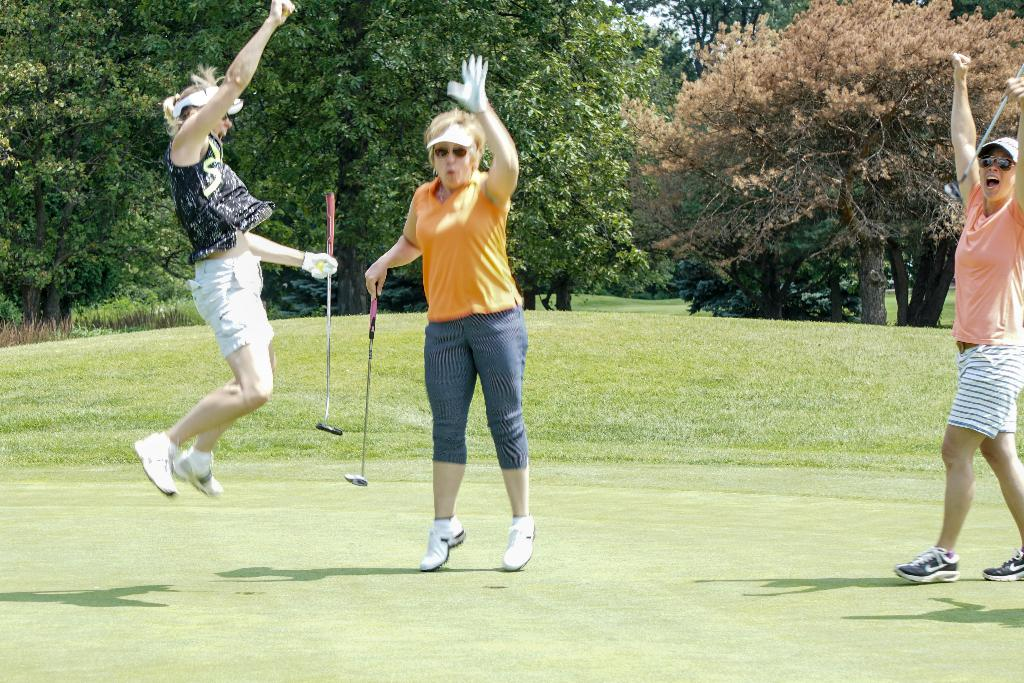Tree: (0, 0, 1023, 330)
